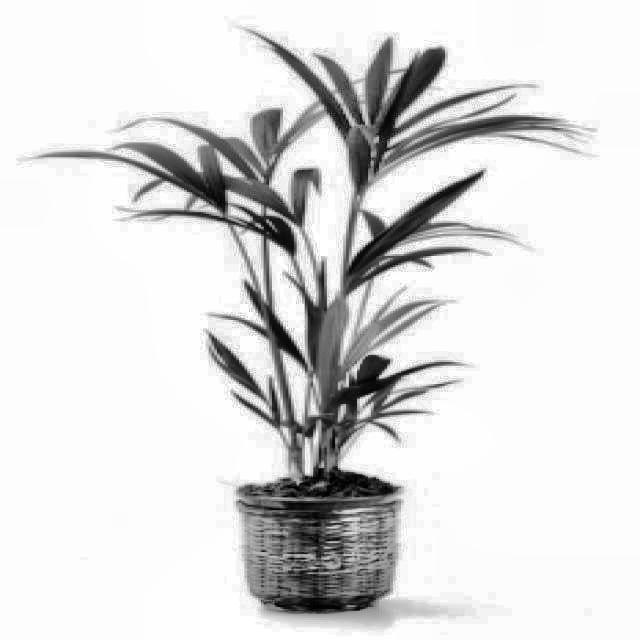plants: (41, 21, 600, 512)
